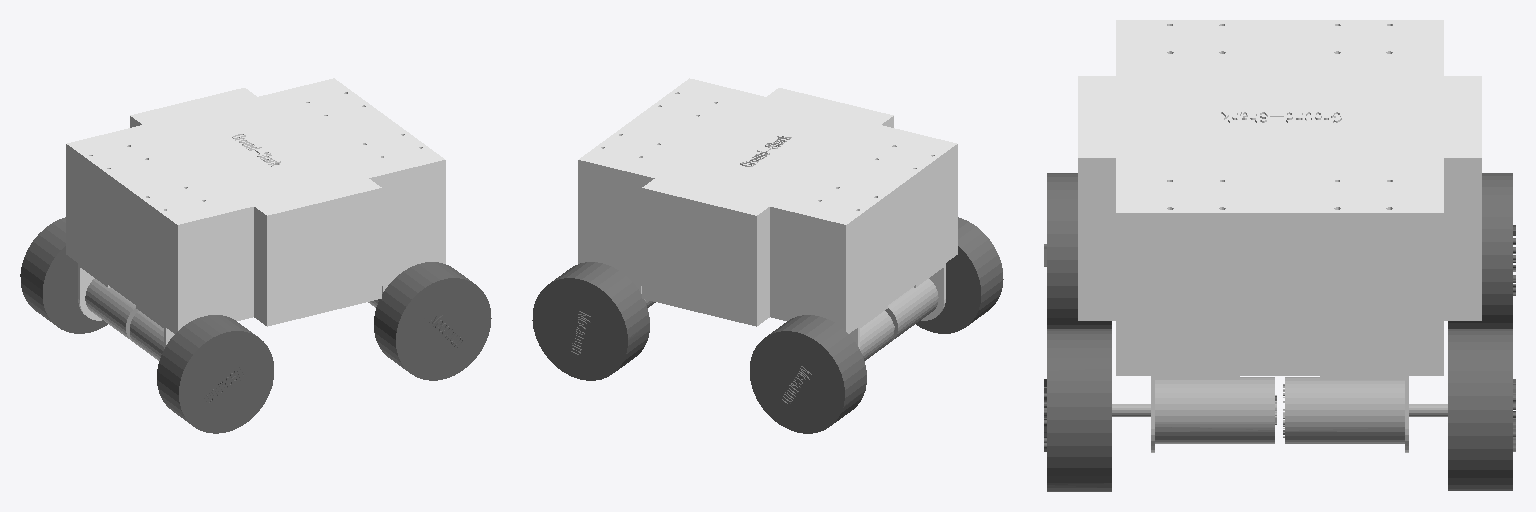
robot.urdf — Ground-Shark_description:
<?xml version="1.0" encoding="utf-8"?>
<!-- This URDF was automatically created by SolidWorks to URDF Exporter! Originally created by
[author] ([email redacted]) 
     Commit Version: 1.6.0-4-g7f85cfe  Build Version: 1.6.7995.38578
     For more information, please see http://wiki.ros.org/sw_urdf_exporter -->
<robot
  name="Ground-Shark_description">
  <link name="base_footprint">
  </link>
  <joint
    name="footprint_joint"
    type="fixed">
    <origin
      xyz="0 0 0"
      rpy="0 0 0" />
    <parent
      link="base_footprint" />
    <child
      link="Base_Link" />
    <axis
      xyz="0 0 0" />
  </joint>
  <link
    name="Base_Link">
    <inertial>
      <origin
        xyz="2.5891E-08 2.6576E-08 0.041501"
        rpy="0 0 0" />
      <mass
        value="2.8841" />
      <inertia
        ixx="0.0085039"
        ixy="-1.3598E-10"
        ixz="-3.1189E-09"
        iyy="0.011435"
        iyz="-3.3424E-09"
        izz="0.016627" />
    </inertial>
    <visual>
      <origin
        xyz="0 0 0"
        rpy="0 0 0" />
      <geometry>
        <mesh
          filename="package://ground_shark_description/meshes/Base_Link.STL" />
      </geometry>
      <material
        name="">
        <color
          rgba="1 1 1 1" />
      </material>
    </visual>
    <collision>
      <origin
        xyz="0 0 0"
        rpy="0 0 0" />
      <geometry>
        <mesh
          filename="package://ground_shark_description/meshes/Base_Link.STL" />
      </geometry>
    </collision>
  </link>
  <link
    name="Lader_Link">
    <inertial>
      <origin
        xyz="-0.011911 0.00042455 -0.023771"
        rpy="0 0 0" />
      <mass
        value="0.073513" />
      <inertia
        ixx="1.8143E-05"
        ixy="-3.1353E-07"
        ixz="3.2518E-07"
        iyy="2.3964E-05"
        iyz="1.0718E-08"
        izz="3.9441E-05" />
    </inertial>
    <visual>
      <origin
        xyz="0 0 0"
        rpy="0 0 0" />
      <geometry>
        <mesh
          filename="package://ground_shark_description/meshes/Lader_Link.STL" />
      </geometry>
      <material
        name="black">
        <color
          rgba="0 0 0 1" />
      </material>
    </visual>
    <collision>
      <origin
        xyz="0 0 0"
        rpy="0 0 0" />
      <geometry>
        <mesh
          filename="package://ground_shark_description/meshes/Lader_Link.STL" />
      </geometry>
    </collision>
  </link>
  <joint
    name="Lader_joint"
    type="fixed">
    <origin
      xyz="0.071496 -0.00087628 0.138"
      rpy="0 0 0" />
    <parent
      link="Base_Link" />
    <child
      link="Lader_Link" />
    <axis
      xyz="0 0 0" />
  </joint>
  <link
    name="MotorBracket_FL_Link">
    <inertial>
      <origin
        xyz="-8.3267E-17 0.010181 -0.0087943"
        rpy="0 0 0" />
      <mass
        value="0.0060832" />
      <inertia
        ixx="2.1292E-06"
        ixy="4.3538E-21"
        ixz="-3.6923E-21"
        iyy="1.9108E-06"
        iyz="6.1537E-07"
        izz="1.8375E-06" />
    </inertial>
    <visual>
      <origin
        xyz="0 0 0"
        rpy="0 0 0" />
      <geometry>
        <mesh
          filename="package://ground_shark_description/meshes/MotorBracket_FL_Link.STL" />
      </geometry>
      <material
        name="">
        <color
          rgba="1 1 1 1" />
      </material>
    </visual>
    <collision>
      <origin
        xyz="0 0 0"
        rpy="0 0 0" />
      <geometry>
        <mesh
          filename="package://ground_shark_description/meshes/MotorBracket_FL_Link.STL" />
      </geometry>
    </collision>
  </link>
  <joint
    name="MotorBracket_FL_joint"
    type="fixed">
    <origin
      xyz="0.085 0.037991 -0.002"
      rpy="0 0 0" />
    <parent
      link="Base_Link" />
    <child
      link="MotorBracket_FL_Link" />
    <axis
      xyz="0 0 0" />
  </joint>
  <link
    name="Motor_FL_Link">
    <inertial>
      <origin
        xyz="-9.5264704250142E-08 0.000494051151757539 -3.20373803028295E-07"
        rpy="0 0 0" />
      <mass
        value="0.0420923924205949" />
      <inertia
        ixx="1.37751524776014E-05"
        ixy="-1.14064183831158E-10"
        ixz="2.71882601075011E-10"
        iyy="4.99008312109064E-06"
        iyz="-3.84353111674059E-10"
        izz="1.3774517725084E-05" />
    </inertial>
    <visual>
      <origin
        xyz="0 0 0"
        rpy="0 0 0" />
      <geometry>
        <mesh
          filename="package://ground_shark_description/meshes/Motor_FL_Link.STL" />
      </geometry>
      <material
        name="silvery">
        <color
          rgba="0.7529411764705882 0.7529411764705882 0.7529411764705882 1" />
      </material>
    </visual>
    <collision>
      <origin
        xyz="0 0 0"
        rpy="0 0 0" />
      <!-- 碰撞这里可以改为简单的圆柱体 cyinder 来加快碰撞检测效率 -->
      <!-- 因为是麦克纳姆轮，实际中可以改为一个球体以表示能够万向移动 -->
      <geometry>
        <mesh
          filename="package://ground_shark_description/meshes/Motor_FL_Link.STL" />
      </geometry>
    </collision>
  </link>
  <joint
    name="Motor_FL_joint"
    type="fixed">
    <origin
      xyz="0 -0.0079908 -0.0245"
      rpy="0 0 0" />
    <parent
      link="MotorBracket_FL_Link" />
    <child
      link="Motor_FL_Link" />
    <axis
      xyz="0 0 0" />
  </joint>
  <link
    name="Wheel_FL_Link">
    <inertial>
      <origin
        xyz="-1.7981E-07 -0.014993 -7.7803E-07"
        rpy="0 0 0" />
      <mass
        value="0.1326" />
      <inertia
        ixx="5.6556E-05"
        ixy="3.6894E-10"
        ixz="1.2476E-09"
        iyy="9.3196E-05"
        iyz="1.6011E-09"
        izz="5.655E-05" />
    </inertial>
    <visual>
      <origin
        xyz="0 0 0"
        rpy="0 0 0" />
      <geometry>
        <mesh
          filename="package://ground_shark_description/meshes/Wheel_FL_Link.STL" />
      </geometry>
      <material
        name="gray">
        <color
          rgba="0.5 0.5 0.5 1" />
      </material>
    </visual>
    <collision>
      <origin
        xyz="0 0 0"
        rpy="0 0 0" />
      <geometry>
        <mesh
          filename="package://ground_shark_description/meshes/Wheel_FL_Link.STL" />
      </geometry>
    </collision>
  </link>
  <joint
    name="wheel_FL_joint"
    type="continuous">
    <origin
      xyz="0 0.0775 0"
      rpy="0 0 0" />
    <parent
      link="Motor_FL_Link" />
    <child
      link="Wheel_FL_Link" />
    <axis
      xyz="0 1 0" />
  </joint>
  <link
    name="MotorBracket_FR_Link">
    <inertial>
      <origin
        xyz="0 -0.0101809797663875 -0.00879428398855098"
        rpy="0 0 0" />
      <mass
        value="0.0060832210537672" />
      <inertia
        ixx="2.12921906667825E-06"
        ixy="-1.10839442466624E-21"
        ixz="1.63388096679982E-21"
        iyy="1.91083611877144E-06"
        iyz="-6.15365329682497E-07"
        izz="1.83749390010958E-06" />
    </inertial>
    <visual>
      <origin
        xyz="0 0 0"
        rpy="0 0 0" />
      <geometry>
        <mesh
          filename="package://ground_shark_description/meshes/MotorBracket_FR_Link.STL" />
      </geometry>
      <material
        name="">
        <color
          rgba="1 1 1 1" />
      </material>
    </visual>
    <collision>
      <origin
        xyz="0 0 0"
        rpy="0 0 0" />
      <geometry>
        <mesh
          filename="package://ground_shark_description/meshes/MotorBracket_FR_Link.STL" />
      </geometry>
    </collision>
  </link>
  <joint
    name="MotorBracket_FR_joint"
    type="fixed">
    <origin
      xyz="0.085 -0.037991 -0.002"
      rpy="0 0 0" />
    <parent
      link="Base_Link" />
    <child
      link="MotorBracket_FR_Link" />
    <axis
      xyz="0 0 0" />
  </joint>
  <link
    name="Motor_FR_Link">
    <inertial>
      <origin
        xyz="-2.5972E-07 -0.00049405 -2.1038E-07"
        rpy="0 0 0" />
      <mass
        value="0.042092" />
      <inertia
        ixx="1.3774E-05"
        ixy="3.1167E-10"
        ixz="-3.1417E-11"
        iyy="4.9901E-06"
        iyz="2.5219E-10"
        izz="1.3775E-05" />
    </inertial>
    <visual>
      <origin
        xyz="0 0 0"
        rpy="0 0 0" />
      <geometry>
        <mesh
          filename="package://ground_shark_description/meshes/Motor_FR_Link.STL" />
      </geometry>
      <material
        name="silvery">
        <color
          rgba="0.7529411764705882 0.7529411764705882 0.7529411764705882 1" />
      </material>
    </visual>
    <collision>
      <origin
        xyz="0 0 0"
        rpy="0 0 0" />
      <geometry>
        <mesh
          filename="package://ground_shark_description/meshes/Motor_FR_Link.STL" />
      </geometry>
    </collision>
  </link>
  <joint
    name="Motor_FR_joint"
    type="fixed">
    <origin
      xyz="0 0.0079908 -0.0245"
      rpy="0 0 0" />
    <parent
      link="MotorBracket_FR_Link" />
    <child
      link="Motor_FR_Link" />
    <axis
      xyz="0 0 0" />
  </joint>
  <link
    name="Wheel_FR_Link">
    <inertial>
      <origin
        xyz="7.27954014193011E-07 0.014992834588668 -3.28245396627458E-07"
        rpy="0 0 0" />
      <mass
        value="0.132597246667057" />
      <inertia
        ixx="5.65534796346194E-05"
        ixy="1.49742001797579E-09"
        ixz="3.00605535168159E-09"
        iyy="9.31961918555651E-05"
        iyz="-6.7636944845642E-10"
        izz="5.65525507281201E-05" />
    </inertial>
    <visual>
      <origin
        xyz="0 0 0"
        rpy="0 0 0" />
      <geometry>
        <mesh
          filename="package://ground_shark_description/meshes/Wheel_FR_Link.STL" />
      </geometry>
      <material
        name="gray">
        <color
          rgba="0.5 0.5 0.5 1" />
      </material>
    </visual>
    <collision>
      <origin
        xyz="0 0 0"
        rpy="0 0 0" />
      <geometry>
        <mesh
          filename="package://ground_shark_description/meshes/Wheel_FR_Link.STL" />
      </geometry>
    </collision>
  </link>
  <joint
    name="wheel_FR_joint"
    type="continuous">
    <origin
      xyz="0 -0.0775 0"
      rpy="0 0 0" />
    <parent
      link="Motor_FR_Link" />
    <child
      link="Wheel_FR_Link" />
    <axis
      xyz="0 -1 0" />
  </joint>
  <link
    name="MotorBracket_BL_Link">
    <inertial>
      <origin
        xyz="-5.5511E-17 0.010181 -0.0087943"
        rpy="0 0 0" />
      <mass
        value="0.0060832" />
      <inertia
        ixx="2.1292E-06"
        ixy="3.0379E-21"
        ixz="-3.2873E-21"
        iyy="1.9108E-06"
        iyz="6.1537E-07"
        izz="1.8375E-06" />
    </inertial>
    <visual>
      <origin
        xyz="0 0 0"
        rpy="0 0 0" />
      <geometry>
        <mesh
          filename="package://ground_shark_description/meshes/MotorBracket_BL_Link.STL" />
      </geometry>
      <material
        name="">
        <color
          rgba="1 1 1 1" />
      </material>
    </visual>
    <collision>
      <origin
        xyz="0 0 0"
        rpy="0 0 0" />
      <geometry>
        <mesh
          filename="package://ground_shark_description/meshes/MotorBracket_BL_Link.STL" />
      </geometry>
    </collision>
  </link>
  <joint
    name="MotorBracket_BL_joint"
    type="fixed">
    <origin
      xyz="-0.085 0.037991 -0.002"
      rpy="0 0 0" />
    <parent
      link="Base_Link" />
    <child
      link="MotorBracket_BL_Link" />
    <axis
      xyz="0 0 0" />
  </joint>
  <link
    name="Motor_BL_Link">
    <inertial>
      <origin
        xyz="-9.52647042362642E-08 0.000494051151757761 -3.20373802972784E-07"
        rpy="0 0 0" />
      <mass
        value="0.0420923924205944" />
      <inertia
        ixx="1.37751524776011E-05"
        ixy="-1.14064183836825E-10"
        ixz="2.71882601070878E-10"
        iyy="4.99008312109062E-06"
        iyz="-3.84353111614291E-10"
        izz="1.37745177250838E-05" />
    </inertial>
    <visual>
      <origin
        xyz="0 0 0"
        rpy="0 0 0" />
      <geometry>
        <mesh
          filename="package://ground_shark_description/meshes/Motor_BL_Link.STL" />
      </geometry>
      <material
        name="silvery">
        <color
          rgba="0.7529411764705882 0.7529411764705882 0.7529411764705882 1" />
      </material>
    </visual>
    <collision>
      <origin
        xyz="0 0 0"
        rpy="0 0 0" />
      <geometry>
        <mesh
          filename="package://ground_shark_description/meshes/Motor_BL_Link.STL" />
      </geometry>
    </collision>
  </link>
  <joint
    name="Motor_BL_joint"
    type="fixed">
    <origin
      xyz="0 -0.0079908 -0.0245"
      rpy="0 0 0" />
    <parent
      link="MotorBracket_BL_Link" />
    <child
      link="Motor_BL_Link" />
    <axis
      xyz="0 0 0" />
  </joint>
  <link
    name="Wheel_BL_Link">
    <inertial>
      <origin
        xyz="6.68215741628231E-08 -0.0149928345886679 -7.95736743344766E-07"
        rpy="0 0 0" />
      <mass
        value="0.132597246667058" />
      <inertia
        ixx="5.6554543362845E-05"
        ixy="-1.38547605071664E-10"
        ixz="2.62997090832959E-09"
        iyy="9.31961918555653E-05"
        iyz="1.63723758305458E-09"
        izz="5.6551486999895E-05" />
    </inertial>
    <visual>
      <origin
        xyz="0 0 0"
        rpy="0 0 0" />
      <geometry>
        <mesh
          filename="package://ground_shark_description/meshes/Wheel_BL_Link.STL" />
      </geometry>
      <material
        name="gray">
        <color
          rgba="0.5 0.5 0.5 1" />
      </material>
    </visual>
    <collision>
      <origin
        xyz="0 0 0"
        rpy="0 0 0" />
      <geometry>
        <mesh
          filename="package://ground_shark_description/meshes/Wheel_BL_Link.STL" />
      </geometry>
    </collision>
  </link>
  <joint
    name="wheel_BL_joint"
    type="continuous">
    <origin
      xyz="0 0.0775 0"
      rpy="0 0 0" />
    <parent
      link="Motor_BL_Link" />
    <child
      link="Wheel_BL_Link" />
    <axis
      xyz="0 1 0" />
  </joint>
  <link
    name="MotorBracket_BR_Link">
    <inertial>
      <origin
        xyz="-0.17 -0.086162520629411 -0.00879428398855092"
        rpy="0 0 0" />
      <mass
        value="0.00608322105376718" />
      <inertia
        ixx="2.12921906667825E-06"
        ixy="-1.34967761970091E-21"
        ixz="2.06216805455324E-21"
        iyy="1.91083611877144E-06"
        iyz="-6.153653296825E-07"
        izz="1.83749390010958E-06" />
    </inertial>
    <visual>
      <origin
        xyz="0 0 0"
        rpy="0 0 0" />
      <geometry>
        <mesh
          filename="package://ground_shark_description/meshes/MotorBracket_BR_Link.STL" />
      </geometry>
      <material
        name="">
        <color
          rgba="1 1 1 1" />
      </material>
    </visual>
    <collision>
      <origin
        xyz="0 0 0"
        rpy="0 0 0" />
      <geometry>
        <mesh
          filename="package://ground_shark_description/meshes/MotorBracket_BR_Link.STL" />
      </geometry>
    </collision>
  </link>
  <joint
    name="MotorBracket_BR_joint"
    type="fixed">
    <origin
      xyz="0.085 0.037991 -0.002"
      rpy="0 0 0" />
    <parent
      link="Base_Link" />
    <child
      link="MotorBracket_BR_Link" />
    <axis
      xyz="0 0 0" />
  </joint>
  <link
    name="Motor_BR_Link">
    <inertial>
      <origin
        xyz="0.00049405 -2.5972E-07 -2.1038E-07"
        rpy="0 0 0" />
      <mass
        value="0.042092" />
      <inertia
        ixx="4.9901E-06"
        ixy="-3.1167E-10"
        ixz="-2.5219E-10"
        iyy="1.3774E-05"
        iyz="-3.1417E-11"
        izz="1.3775E-05" />
    </inertial>
    <visual>
      <origin
        xyz="0 0 0"
        rpy="0 0 0" />
      <geometry>
        <mesh
          filename="package://ground_shark_description/meshes/Motor_BR_Link.STL" />
      </geometry>
      <material
        name="silvery">
        <color
          rgba="0.7529411764705882 0.7529411764705882 0.7529411764705882 1" />
      </material>
    </visual>
    <collision>
      <origin
        xyz="0 0 0"
        rpy="0 0 0" />
      <geometry>
        <mesh
          filename="package://ground_shark_description/meshes/Motor_BR_Link.STL" />
      </geometry>
    </collision>
  </link>
  <joint
    name="Motor_BR_joint"
    type="fixed">
    <origin
      xyz="-0.17 -0.067991 -0.0245"
      rpy="0 0 -1.5708" />
    <parent
      link="MotorBracket_BR_Link" />
    <child
      link="Motor_BR_Link" />
    <axis
      xyz="0 0 0" />
  </joint>
  <link
    name="Wheel_BR_Link">
    <inertial>
      <origin
        xyz="-1.0632E-05 0.014993 -1.9304E-05"
        rpy="0 0 0" />
      <mass
        value="0.1326" />
      <inertia
        ixx="5.6551E-05"
        ixy="-9.5754E-10"
        ixz="-2.5947E-09"
        iyy="9.3196E-05"
        iyz="-1.3352E-09"
        izz="5.6555E-05" />
    </inertial>
    <visual>
      <origin
        xyz="0 0 0"
        rpy="0 0 0" />
      <geometry>
        <mesh
          filename="package://ground_shark_description/meshes/Wheel_BR_Link.STL" />
      </geometry>
      <material
        name="gray">
        <color
          rgba="0.5 0.5 0.5 1" />
      </material>
    </visual>
    <collision>
      <origin
        xyz="0 0 0"
        rpy="0 0 0" />
      <geometry>
        <mesh
          filename="package://ground_shark_description/meshes/Wheel_BR_Link.STL" />
      </geometry>
    </collision>
  </link>
  <joint
    name="wheel_BR_joint"
    type="continuous">
    <origin
      xyz="0.0775 1.0167E-05 1.8655E-05"
      rpy="0 0 1.5708" />
    <parent
      link="Motor_BR_Link" />
    <child
      link="Wheel_BR_Link" />
    <axis
      xyz="0 -1 0" />
  </joint>
</robot>

--- Render facts (derived) ---
Views: 3 orthographic renders of the robot side by side, from view 1: azimuth 30°, elevation 25°; view 2: azimuth 150°, elevation 25°; view 3: azimuth 270°, elevation 25°.
Model Ground-Shark_description with 15 links and 14 joints (4 continuous, 10 fixed), rooted at base_footprint, posed all joints at 0.
Visible links, largest first — view 1: Base_Link, Wheel_BR_Link, Wheel_FR_Link, Wheel_BL_Link, Motor_BL_Link, Motor_BR_Link, MotorBracket_BL_Link; view 2: Base_Link, Wheel_FL_Link, Wheel_BL_Link, Wheel_BR_Link, Motor_BR_Link, Motor_BL_Link, MotorBracket_BR_Link; view 3: Base_Link, Wheel_FR_Link, Wheel_FL_Link, Motor_FL_Link, Motor_FR_Link, Wheel_BL_Link, Wheel_BR_Link, MotorBracket_FL_Link, MotorBracket_FR_Link.
Boxes of the visible links, bbox=[...] form: Base_Link: bbox=[66, 78, 445, 333]; Wheel_BR_Link: bbox=[157, 315, 273, 433]; Wheel_FR_Link: bbox=[374, 262, 491, 380]; Wheel_BL_Link: bbox=[20, 217, 107, 333]; Motor_BL_Link: bbox=[85, 279, 138, 341]; Motor_BR_Link: bbox=[130, 311, 163, 360]; MotorBracket_BL_Link: bbox=[78, 263, 109, 320]; Base_Link: bbox=[578, 78, 957, 333]; Wheel_FL_Link: bbox=[532, 262, 649, 380]; Wheel_BL_Link: bbox=[750, 315, 866, 433]; Wheel_BR_Link: bbox=[916, 217, 1003, 333]; Motor_BR_Link: bbox=[885, 279, 938, 341]; Motor_BL_Link: bbox=[860, 311, 893, 360]; MotorBracket_BR_Link: bbox=[914, 263, 945, 320]; Base_Link: bbox=[1078, 20, 1481, 375]; Wheel_FR_Link: bbox=[1044, 329, 1111, 491]; Wheel_FL_Link: bbox=[1448, 329, 1515, 490]; Motor_FL_Link: bbox=[1283, 377, 1447, 443]; Motor_FR_Link: bbox=[1112, 377, 1276, 443]; Wheel_BL_Link: bbox=[1448, 173, 1515, 328]; Wheel_BR_Link: bbox=[1044, 173, 1111, 328]; MotorBracket_FL_Link: bbox=[1320, 376, 1408, 452]; MotorBracket_FR_Link: bbox=[1151, 376, 1239, 452].
Bounding box of the posed robot: 0.245 × 0.217 × 0.148 m (x, y, z).
13 mesh visuals loaded from 14 distinct referenced files (13 binary STL); not drawn: 1 (reference not matched to a file when rendering).
